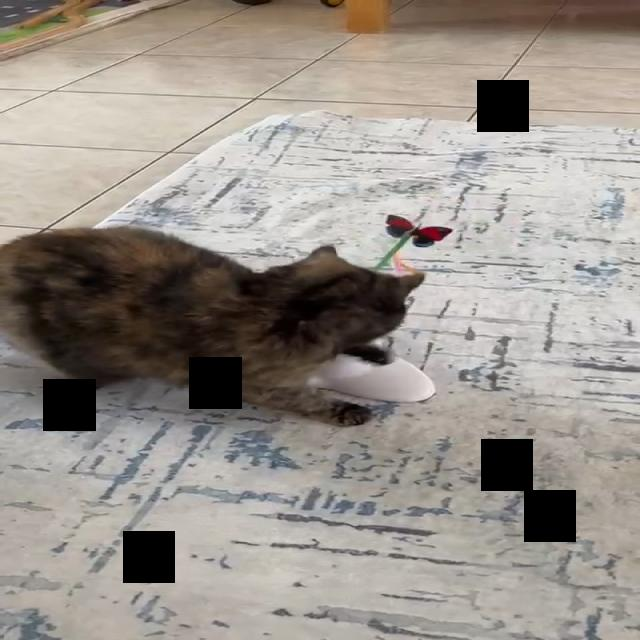authorized: (0, 224, 425, 427)
